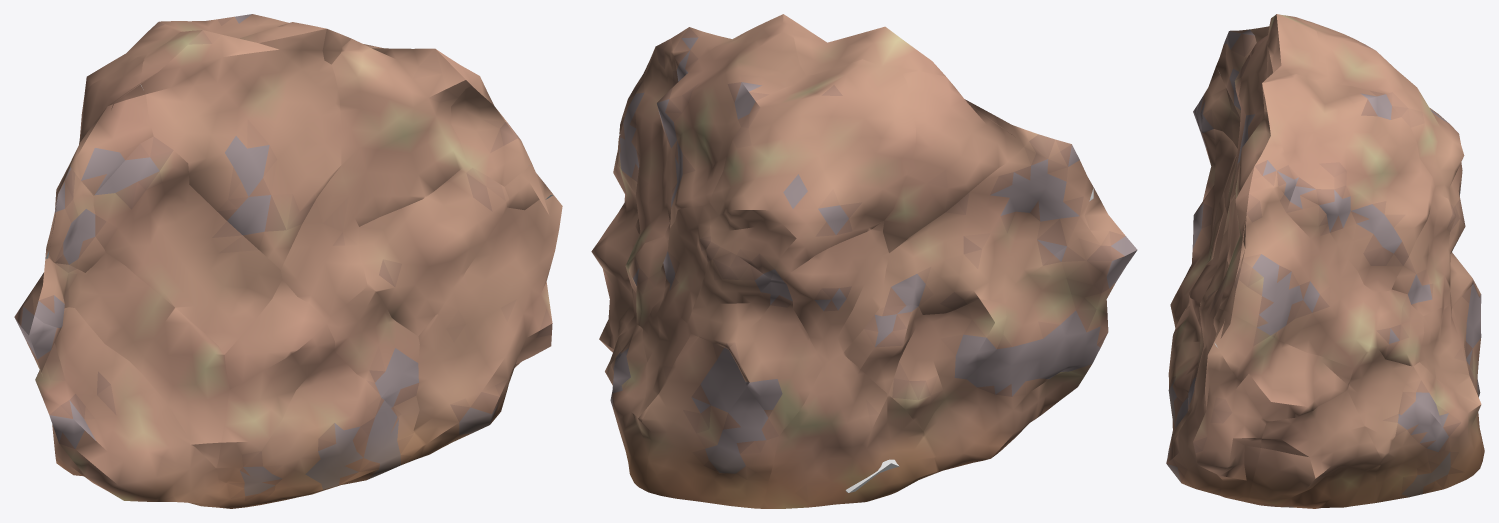
The model's file is iron_rock_v2.glb.
The picture shows the model from 3 angles, left to right: view 1: azimuth 30°, elevation 25°; view 2: azimuth 150°, elevation 25°; view 3: azimuth 270°, elevation 25°; orthographic projection. The views are drawn at different scales.
Visible parts, largest first — view 1: Chunk_28, Chunk_05, Chunk_04, Chunk_20, Chunk_26, Chunk_12, Chunk_02, Chunk_18, Chunk_23, Chunk_10, Chunk_07, Chunk_25 (+6 smaller); view 2: Chunk_27, Chunk_04, Chunk_17, Chunk_06, Chunk_01, Chunk_29, Chunk_25, Chunk_09, Chunk_22, Chunk_14, Chunk_21, Chunk_19 (+10 smaller); view 3: Chunk_29, Chunk_21, Chunk_00, Chunk_05, Chunk_03, Chunk_13, Chunk_27, Chunk_28, Chunk_24, Chunk_08, Chunk_04, Chunk_26 (+12 smaller).
Boxes of the visible parts, x1=… form: Chunk_28: x1=140, y1=26, x2=341, y2=269; Chunk_05: x1=413, y1=195, x2=562, y2=457; Chunk_04: x1=14, y1=285, x2=218, y2=507; Chunk_20: x1=93, y1=136, x2=282, y2=354; Chunk_26: x1=331, y1=39, x2=471, y2=226; Chunk_12: x1=32, y1=251, x2=229, y2=468; Chunk_02: x1=217, y1=350, x2=422, y2=508; Chunk_18: x1=358, y1=164, x2=509, y2=336; Chunk_23: x1=281, y1=166, x2=367, y2=320; Chunk_10: x1=327, y1=286, x2=419, y2=434; Chunk_07: x1=217, y1=324, x2=334, y2=491; Chunk_25: x1=69, y1=53, x2=153, y2=195; Chunk_27: x1=709, y1=59, x2=915, y2=280; Chunk_04: x1=922, y1=230, x2=1137, y2=475; Chunk_17: x1=880, y1=134, x2=1093, y2=314; Chunk_06: x1=642, y1=333, x2=778, y2=508; Chunk_01: x1=763, y1=354, x2=936, y2=508; Chunk_29: x1=657, y1=14, x2=805, y2=243; Chunk_25: x1=883, y1=71, x2=1038, y2=252; Chunk_09: x1=843, y1=299, x2=1006, y2=431; Chunk_22: x1=783, y1=220, x2=889, y2=363; Chunk_14: x1=729, y1=280, x2=823, y2=435; Chunk_21: x1=619, y1=38, x2=678, y2=263; Chunk_19: x1=688, y1=241, x2=771, y2=349; Chunk_29: x1=1262, y1=74, x2=1435, y2=292; Chunk_21: x1=1219, y1=186, x2=1376, y2=368; Chunk_00: x1=1248, y1=390, x2=1381, y2=508; Chunk_05: x1=1166, y1=324, x2=1266, y2=502; Chunk_03: x1=1375, y1=362, x2=1481, y2=502; Chunk_13: x1=1213, y1=308, x2=1353, y2=421; Chunk_27: x1=1309, y1=23, x2=1464, y2=207; Chunk_28: x1=1223, y1=14, x2=1328, y2=234; Chunk_24: x1=1392, y1=186, x2=1456, y2=315; Chunk_08: x1=1347, y1=346, x2=1412, y2=460; Chunk_04: x1=1170, y1=103, x2=1237, y2=328; Chunk_26: x1=1227, y1=111, x2=1299, y2=271.
Bounding box in the file's own units: 3.81 × 3.04 × 2.18.
